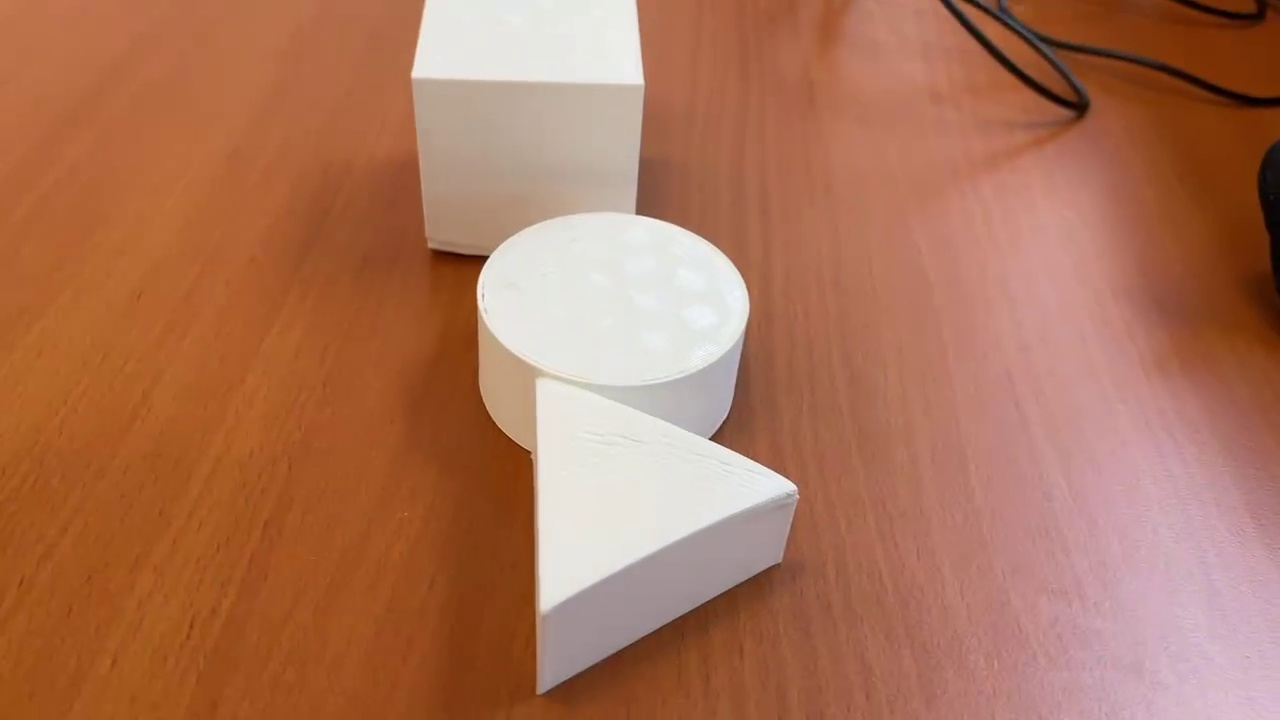Cube: (405, 2, 648, 262)
Cylinder_short: (476, 210, 752, 448)
Triangle_short: (528, 375, 798, 693)
